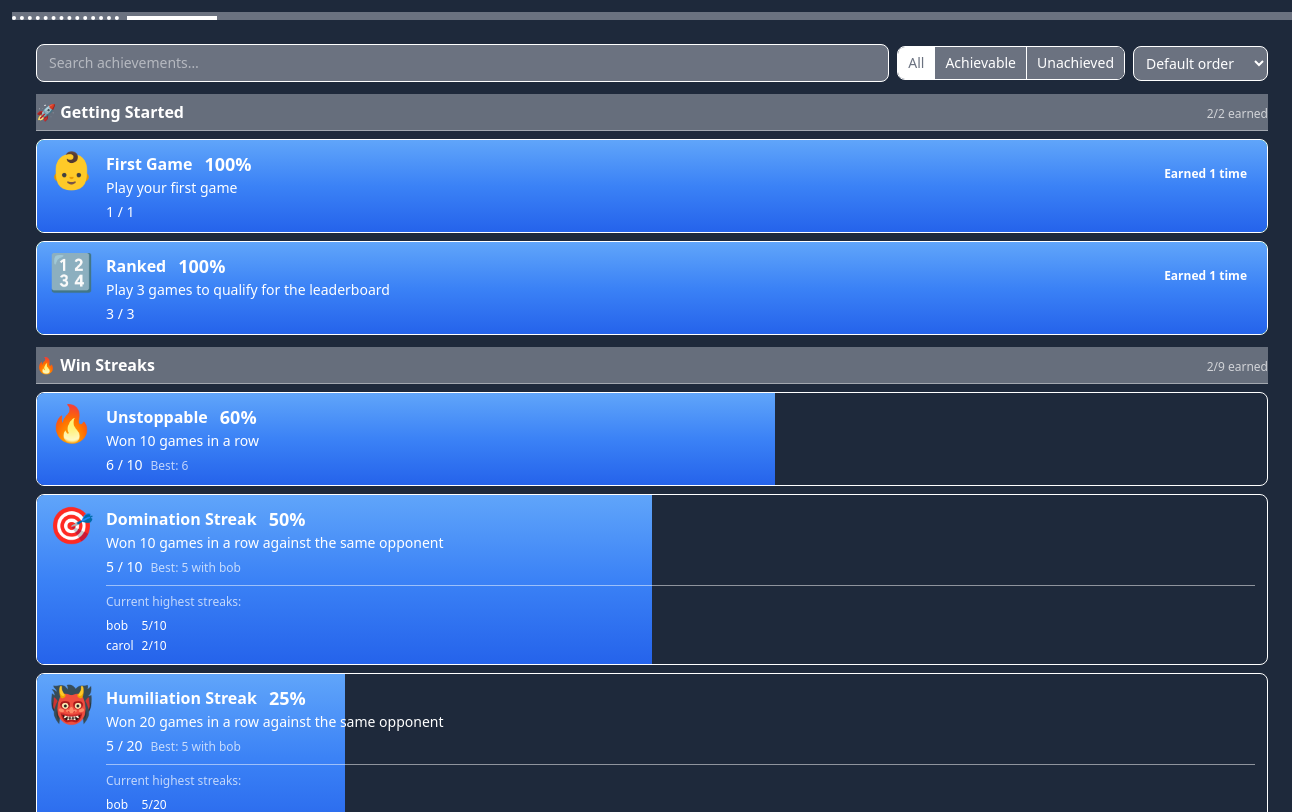
a player's achievements from a link › matches the type of an achievement typed into the search
Type "streak-player-20" into the search field named "Search achievements by name or description" at [463, 63], box x1=36 y1=44 x2=889 y2=82
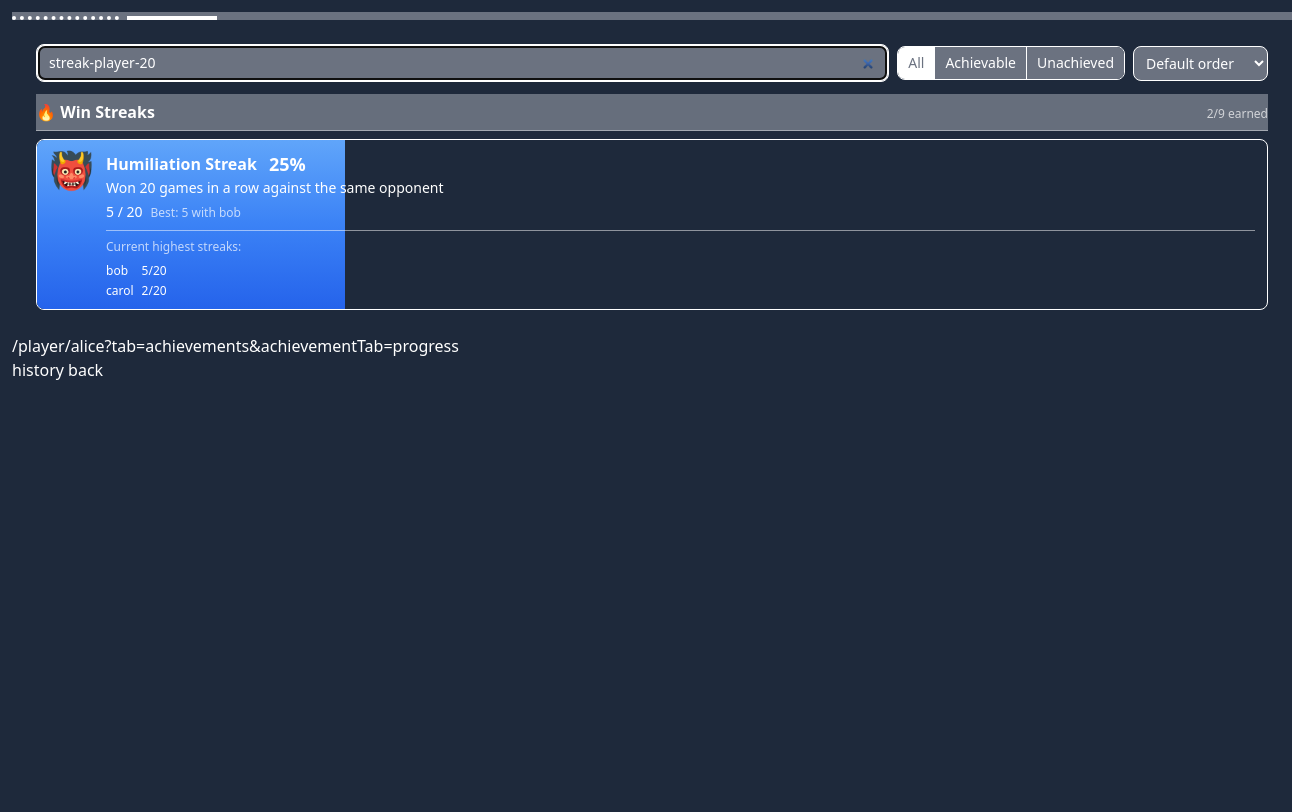
Expected: the link "Humiliation Streak" is shown, x1=106 y1=153 x2=257 y2=175
Now the link "First Game" is gone
